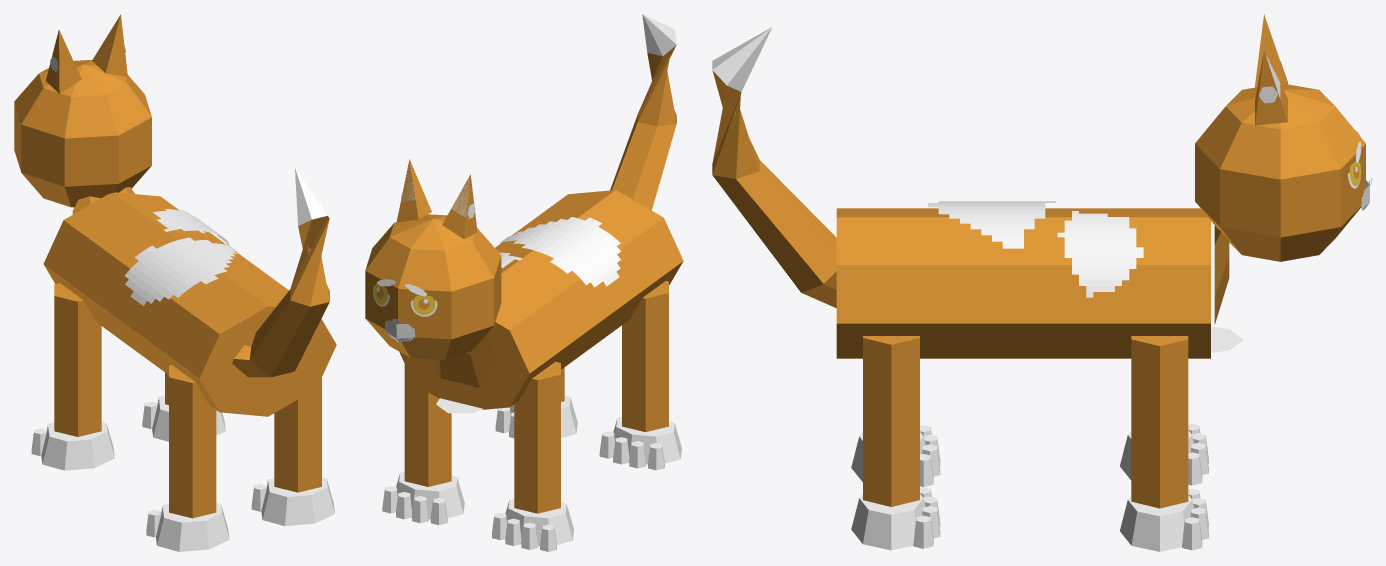
Rendered from cat-orange.fbx.
3 renders of one model, left to right at view 1: azimuth 30°, elevation 25°; view 2: azimuth 150°, elevation 25°; view 3: azimuth 270°, elevation 25°, orthographic. The views are drawn at different scales.
Visible parts, largest first — view 1: Cat_BlackMat_body, Cat_BlackMat_head, Cat_BlackMat_frontL_leg, Cat_BlackMat_backL_leg, Cat_BlackMat_tail, Cat_WhiteMat_spot_1, Cat_BlackMat_backR_leg, Cat_WhiteMat_frontL_paw, Cat_WhiteMat_backL_paw, Cat_WhiteMat_backR_paw, Cat_BlackMat_ear_R, Cat_BlackMat_ear_L (+4 smaller); view 2: Cat_BlackMat_body, Cat_BlackMat_head, Cat_BlackMat_frontL_leg, Cat_BlackMat_backL_leg, Cat_BlackMat_tail, Cat_WhiteMat_spot_1, Cat_BlackMat_frontR_leg, Cat_WhiteMat_frontR_paw, Cat_WhiteMat_frontL_paw, Cat_WhiteMat_backL_paw, Cat_BlackMat_neck, Cat_BlackMat_ear_R (+5 smaller); view 3: Cat_BlackMat_body, Cat_BlackMat_head, Cat_BlackMat_tail, Cat_BlackMat_frontR_leg, Cat_BlackMat_backR_leg, Cat_WhiteMat_spot_2, Cat_WhiteMat_frontR_paw, Cat_WhiteMat_backR_paw, Cat_WhiteMat_spot_1, Cat_WhiteMat_tailTip, Cat_WhiteMat_frontL_paw, Cat_WhiteMat_backL_paw (+3 smaller).
Part boxes in pixels (box(x1,y1,x2,y2)): Cat_BlackMat_body: box(43, 192, 336, 416); Cat_BlackMat_head: box(14, 60, 151, 207); Cat_BlackMat_frontL_leg: box(54, 283, 101, 436); Cat_BlackMat_backL_leg: box(169, 365, 216, 518); Cat_BlackMat_tail: box(250, 216, 329, 377); Cat_WhiteMat_spot_1: box(124, 237, 238, 305); Cat_BlackMat_backR_leg: box(274, 378, 321, 492); Cat_WhiteMat_frontL_paw: box(31, 421, 114, 470); Cat_WhiteMat_backL_paw: box(146, 502, 229, 551); Cat_WhiteMat_backR_paw: box(251, 477, 334, 526); Cat_BlackMat_ear_R: box(92, 14, 127, 76); Cat_BlackMat_ear_L: box(46, 30, 81, 93); Cat_BlackMat_body: box(399, 190, 683, 409); Cat_BlackMat_head: box(365, 214, 501, 359); Cat_BlackMat_frontL_leg: box(514, 361, 560, 513); Cat_BlackMat_backL_leg: box(622, 281, 668, 432); Cat_BlackMat_tail: box(610, 45, 676, 210); Cat_WhiteMat_spot_1: box(500, 217, 621, 287); Cat_BlackMat_frontR_leg: box(404, 364, 451, 486); Cat_WhiteMat_frontR_paw: box(382, 471, 464, 525); Cat_WhiteMat_frontL_paw: box(492, 498, 573, 551); Cat_WhiteMat_backL_paw: box(599, 417, 681, 470); Cat_BlackMat_neck: box(431, 334, 499, 387); Cat_BlackMat_ear_R: box(396, 159, 431, 222); Cat_BlackMat_body: box(836, 208, 1210, 358); Cat_BlackMat_head: box(1195, 84, 1365, 261); Cat_BlackMat_tail: box(712, 70, 836, 292); Cat_BlackMat_frontR_leg: box(1131, 336, 1188, 508); Cat_BlackMat_backR_leg: box(863, 336, 919, 506); Cat_WhiteMat_spot_2: box(1057, 211, 1143, 297); Cat_WhiteMat_frontR_paw: box(1120, 488, 1208, 551); Cat_WhiteMat_backR_paw: box(851, 487, 940, 550); Cat_WhiteMat_spot_1: box(928, 201, 1055, 248); Cat_WhiteMat_tailTip: box(712, 27, 772, 91); Cat_WhiteMat_frontL_paw: box(1120, 423, 1208, 485); Cat_WhiteMat_backL_paw: box(851, 425, 940, 486).
Bounding box in the file's own units: 138 × 285 × 361.
